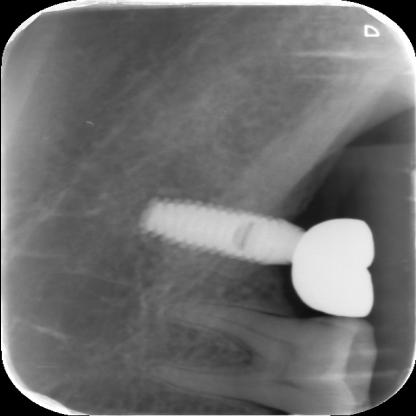Bicon: (127, 189, 330, 277)
